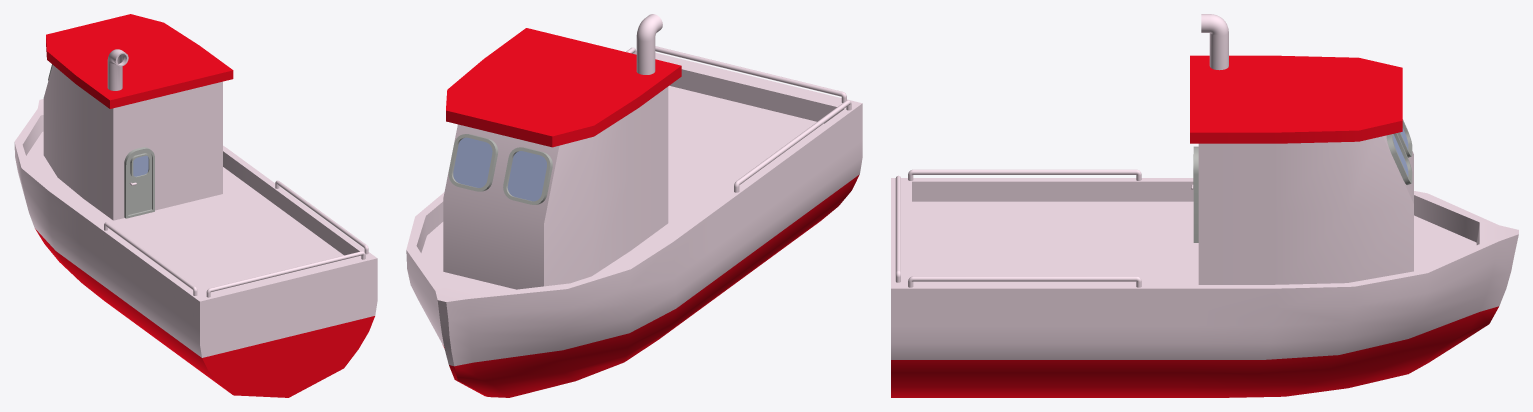
The model's file is Boat.fbx.
3 renders of one model, left to right at view 1: azimuth 30°, elevation 25°; view 2: azimuth 150°, elevation 25°; view 3: azimuth 270°, elevation 25°, orthographic. The views are drawn at different scales.
Parts seen in each view (by area): view 1: Cube, Door, Railing.001, Railing, Pipe; view 2: Cube, FrontWindow, Pipe, Railing, Railing.001; view 3: Cube, Railing.001, Pipe, FrontWindow, Railing, Door.
Part boxes in pixels (x1=…): Cube: x1=14, y1=14, x2=377, y2=397; Door: x1=124, y1=147, x2=154, y2=218; Railing.001: x1=104, y1=180, x2=368, y2=295; Railing: x1=206, y1=251, x2=365, y2=297; Pipe: x1=107, y1=49, x2=128, y2=90; Cube: x1=406, y1=28, x2=862, y2=397; FrontWindow: x1=448, y1=134, x2=552, y2=204; Pipe: x1=636, y1=14, x2=662, y2=74; Railing: x1=655, y1=46, x2=846, y2=102; Railing.001: x1=626, y1=47, x2=851, y2=192; Cube: x1=891, y1=55, x2=1518, y2=397; Railing.001: x1=908, y1=169, x2=1141, y2=287; Pipe: x1=1201, y1=14, x2=1228, y2=70; FrontWindow: x1=1386, y1=119, x2=1412, y2=184; Railing: x1=895, y1=175, x2=900, y2=282; Door: x1=1191, y1=146, x2=1198, y2=242.
Size of the model in its own units: 970 by 1394 by 2325.
